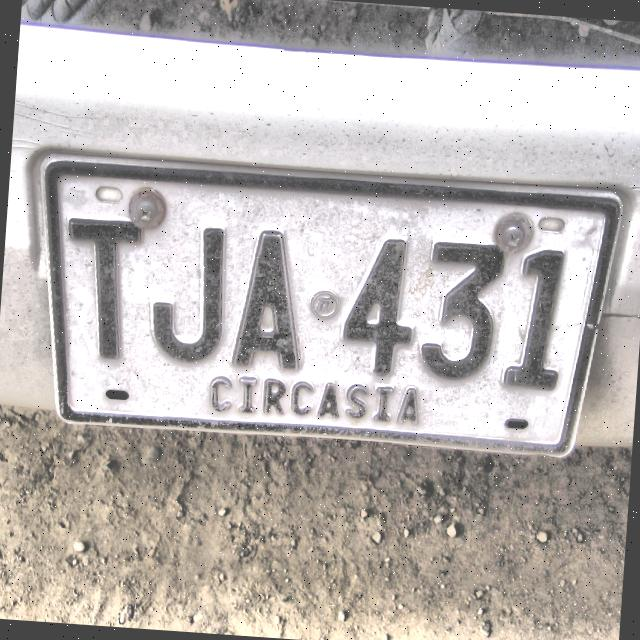1: (501, 239, 571, 399)
3: (414, 232, 506, 388)
4: (333, 229, 423, 384)
A: (226, 224, 314, 378)
J: (138, 215, 236, 368)
T: (63, 212, 149, 368)
